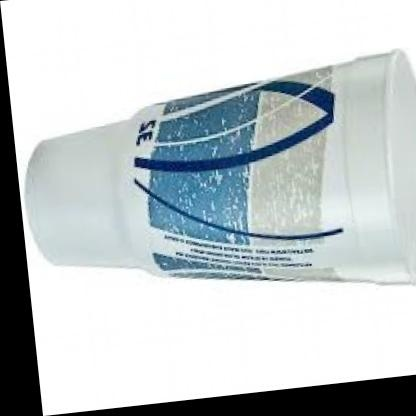trash: (26, 50, 415, 282)
